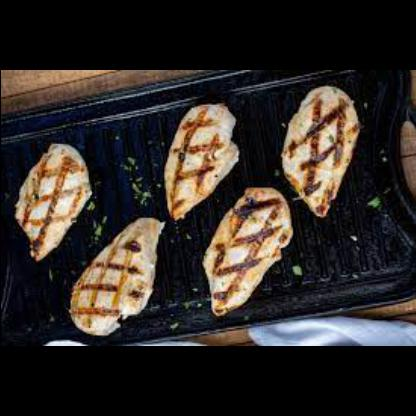grilled chicken breast: (201, 186, 293, 317), (70, 218, 164, 334), (281, 84, 358, 214), (162, 102, 238, 220), (13, 142, 88, 257)
